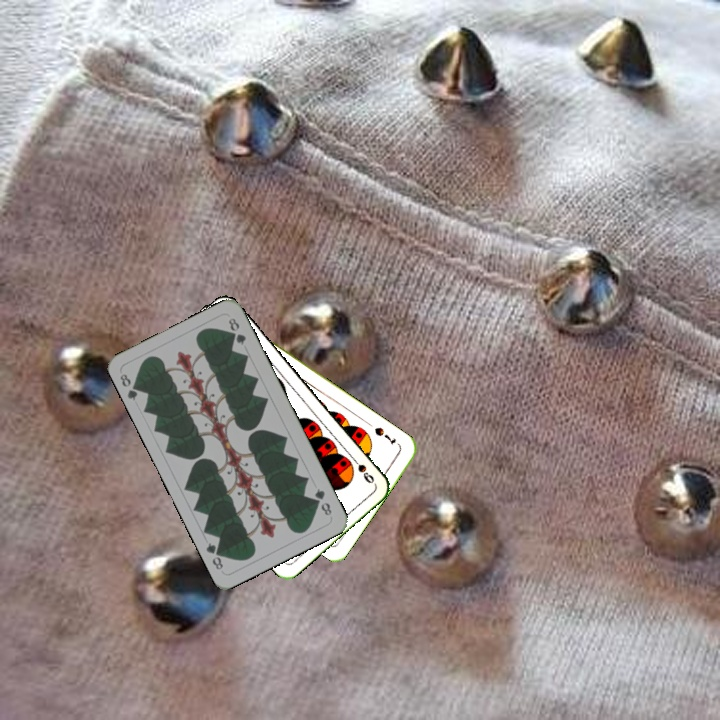G8: (116, 369, 143, 403), (310, 484, 334, 518)
S7: (371, 423, 399, 447)
S9: (347, 452, 377, 486)
